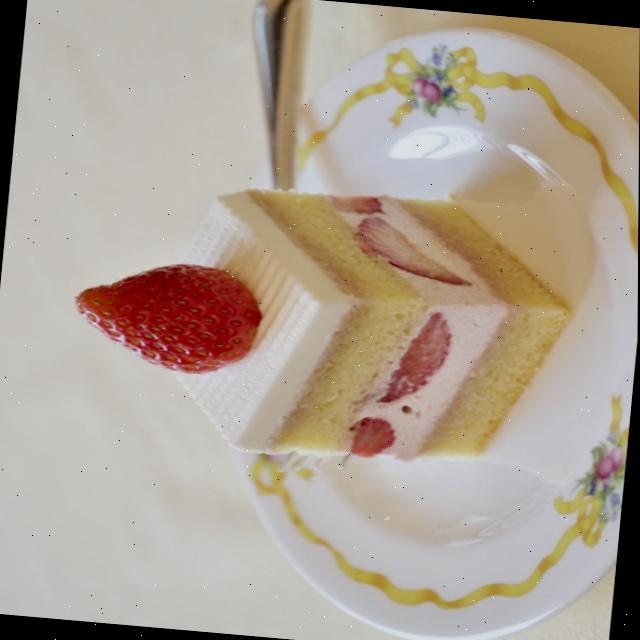蛋糕甜品: (52, 0, 640, 640)
